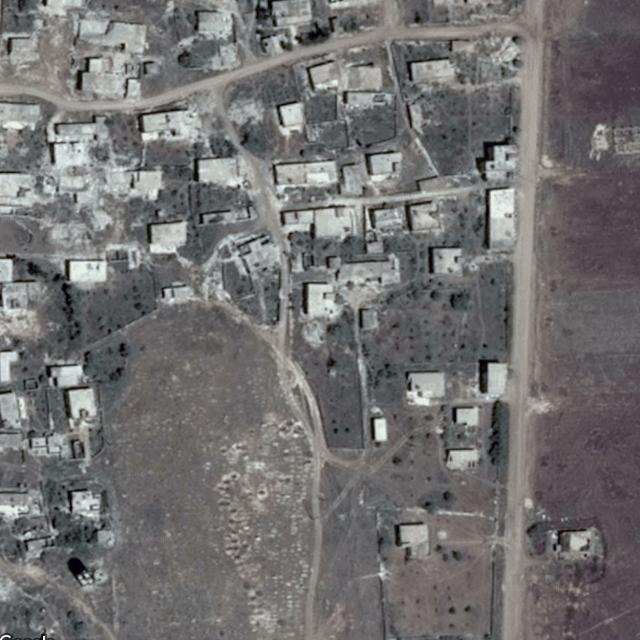damaged_building: (22, 140, 132, 250), (138, 106, 206, 141), (473, 34, 522, 80), (199, 266, 233, 304), (204, 38, 241, 71), (227, 98, 266, 124), (298, 319, 326, 350)
